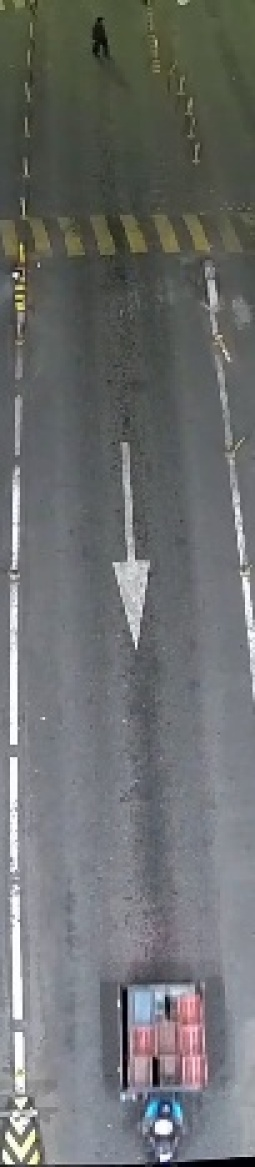bike: (112, 1080, 201, 1164)
